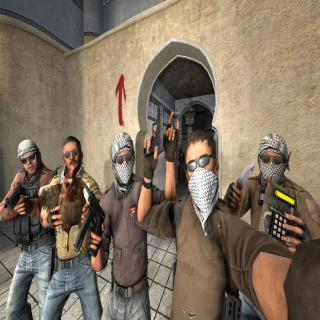T-Head: (184, 128, 218, 211), (253, 130, 292, 187), (111, 131, 136, 187), (17, 137, 42, 177), (62, 134, 83, 175)
